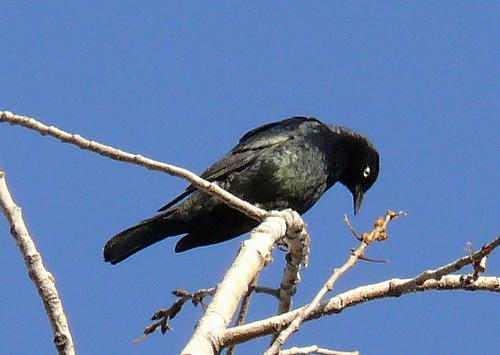009.Brewer_Blackbird: (102, 114, 381, 268)
